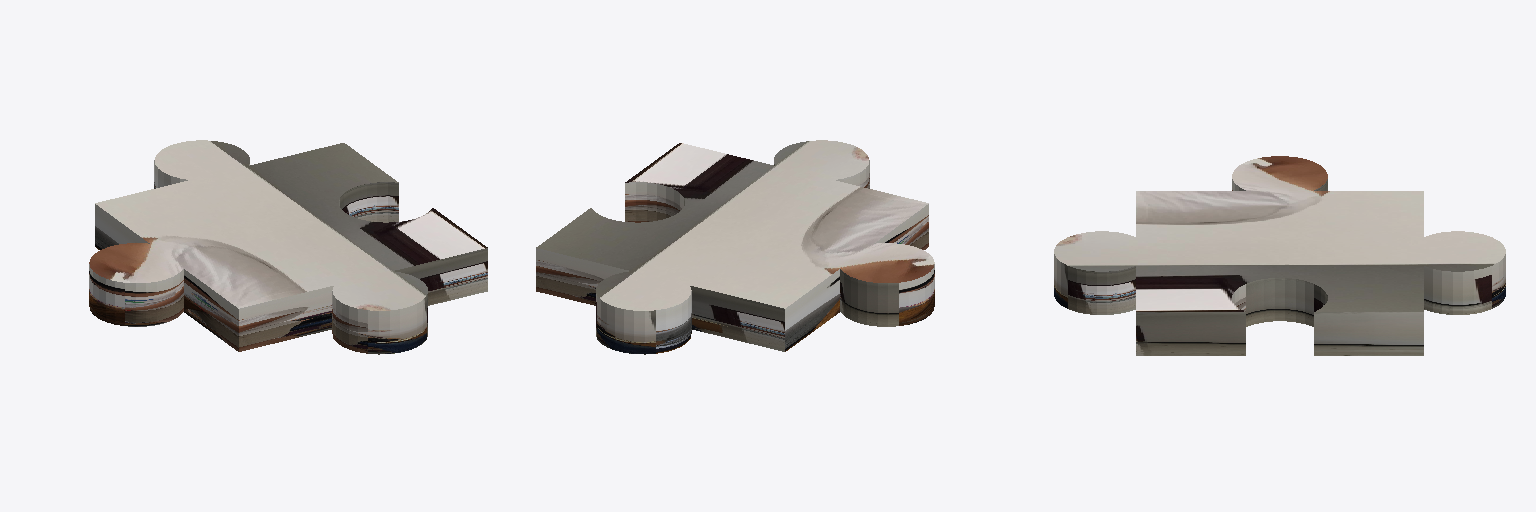
3 renders of one model, left to right at view 1: azimuth 30°, elevation 25°; view 2: azimuth 150°, elevation 25°; view 3: azimuth 270°, elevation 25°, orthographic.
Visible parts, largest first — view 1: ͼ��012; view 2: ͼ��012; view 3: ͼ��012.
Part boxes in pixels (x1,y1,x2,y2): ͼ��012: (89,140,487,354); ͼ��012: (536,140,934,354); ͼ��012: (1054,156,1505,355).
Size of the model in its own units: 38.5 by 5 by 47.01.
1 materials, 1 textured.